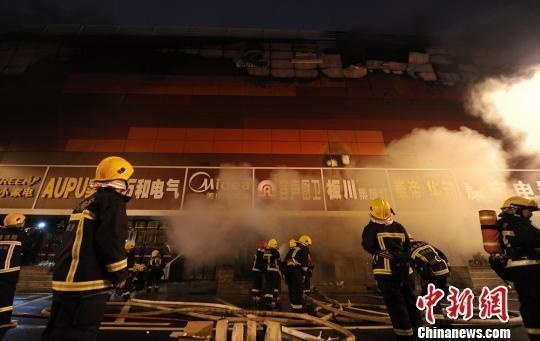fire: (474, 59, 540, 179)
